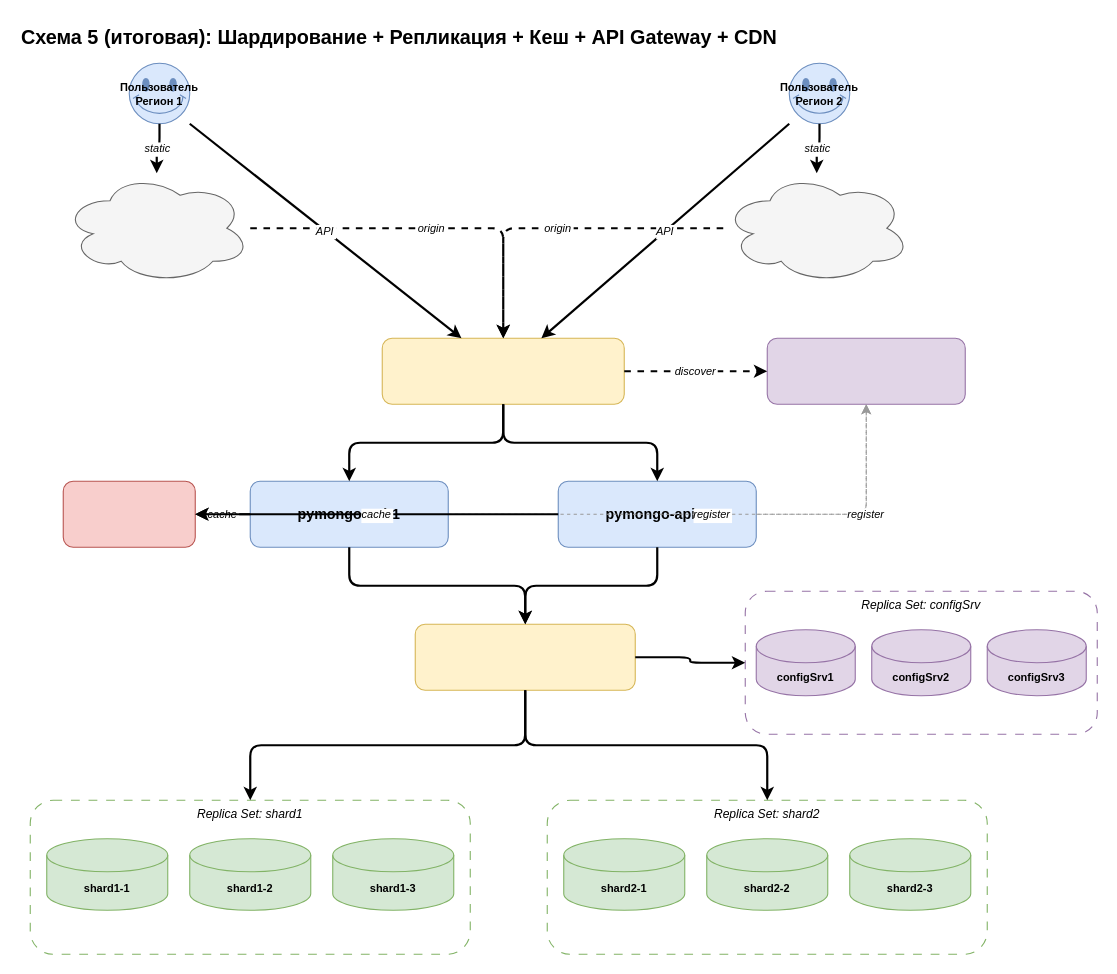
Image size: 1117x974. Some labels were removed from this diagram. Each missing label, with the centre of its shape:
API Gateway (Nginx / APISIX): [502,370]
CDN Регион 1: [156,227]
CDN Регион 2: [816,227]
Consul (Service Discovery): [865,370]
mongos (router): [524,656]
Redis: [128,513]
